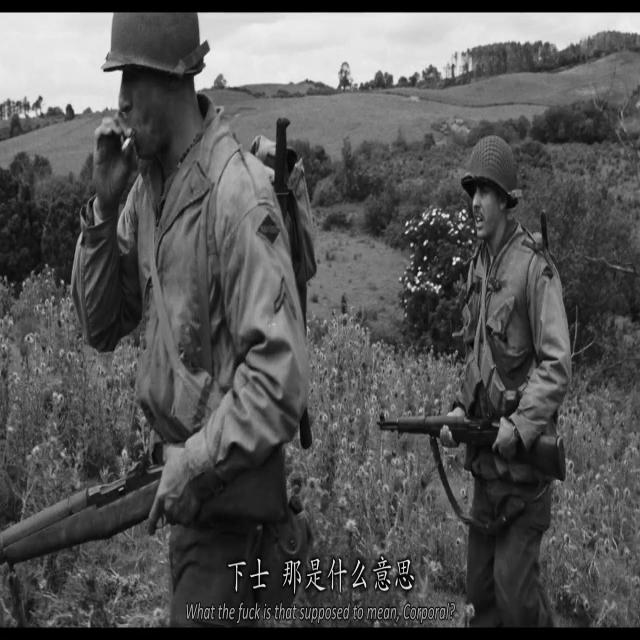Rifle: (0, 431, 293, 574), (374, 408, 570, 436)
